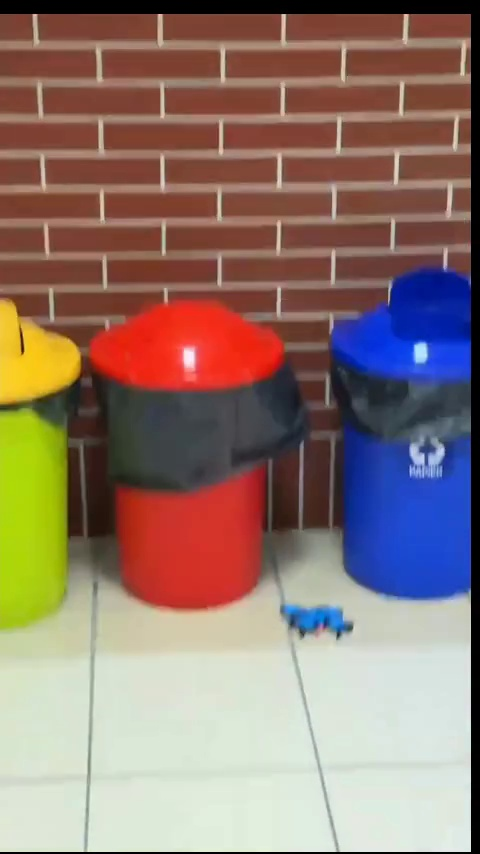drone: (284, 606, 347, 636)
